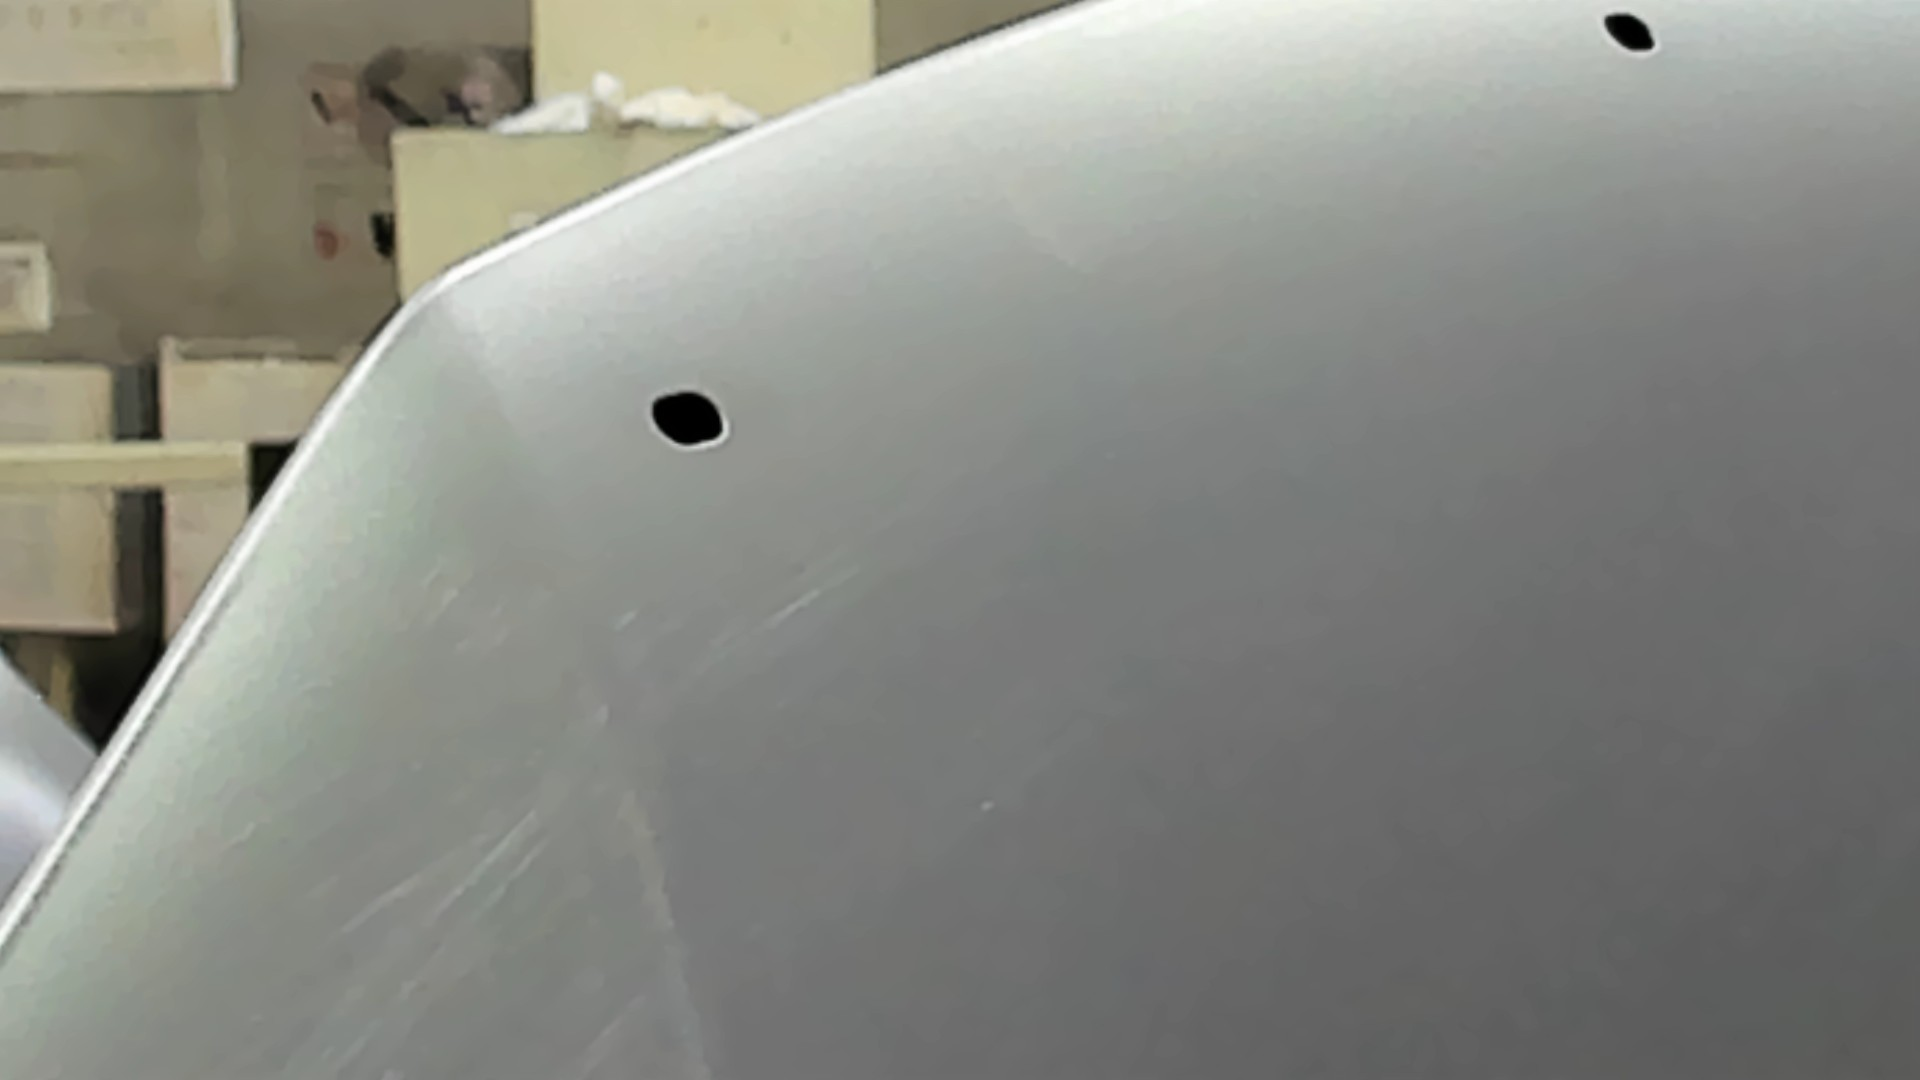amorfo: (642, 385, 736, 451), (1597, 7, 1664, 59)
